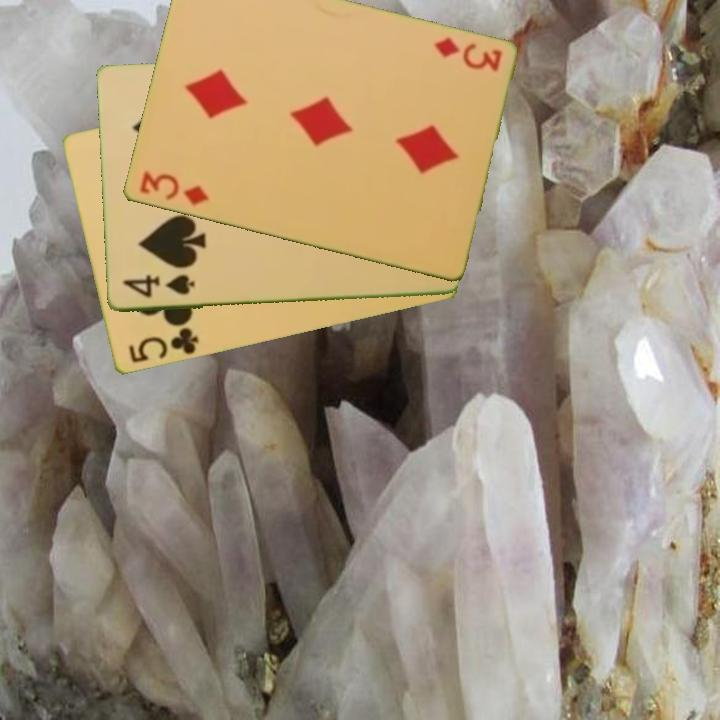3d: (135, 167, 212, 209), (429, 34, 505, 75)
4s: (119, 271, 197, 301)
5c: (125, 324, 202, 367)
